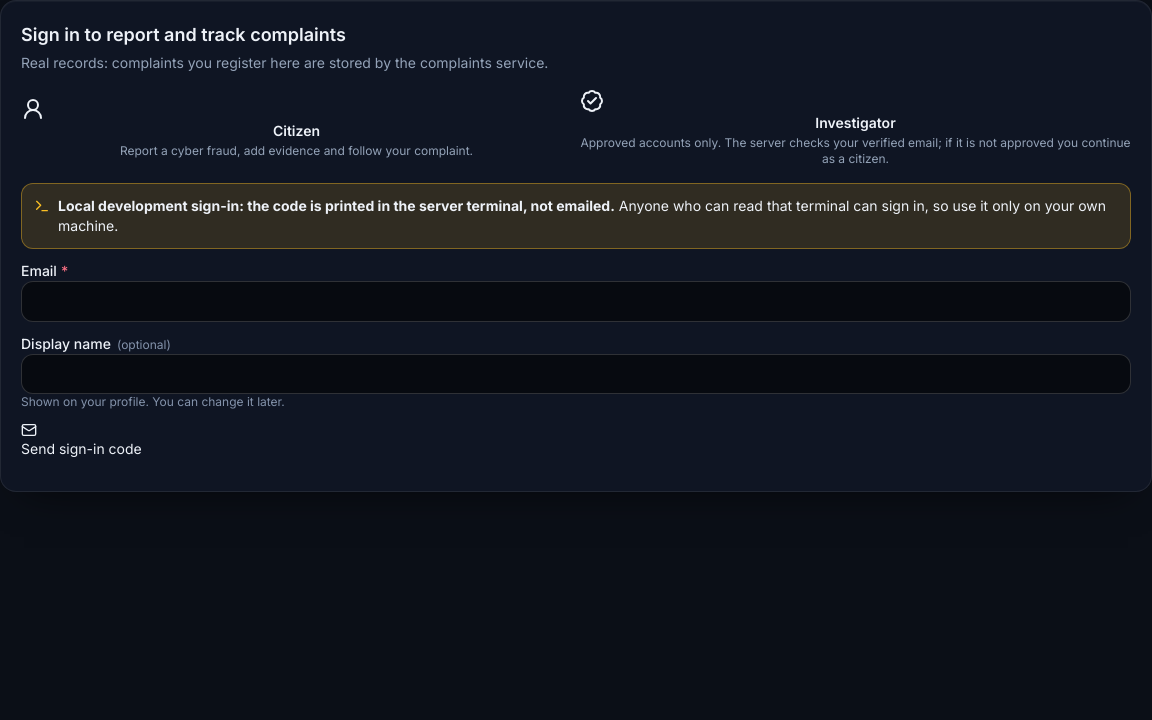
Test: local code flow › validates the email locally before asking for a code
The image size is (1152, 720).
Step 1. Type "not-an-email" into the field with test id "local-email" → (576, 301), box [21,281,1131,322]
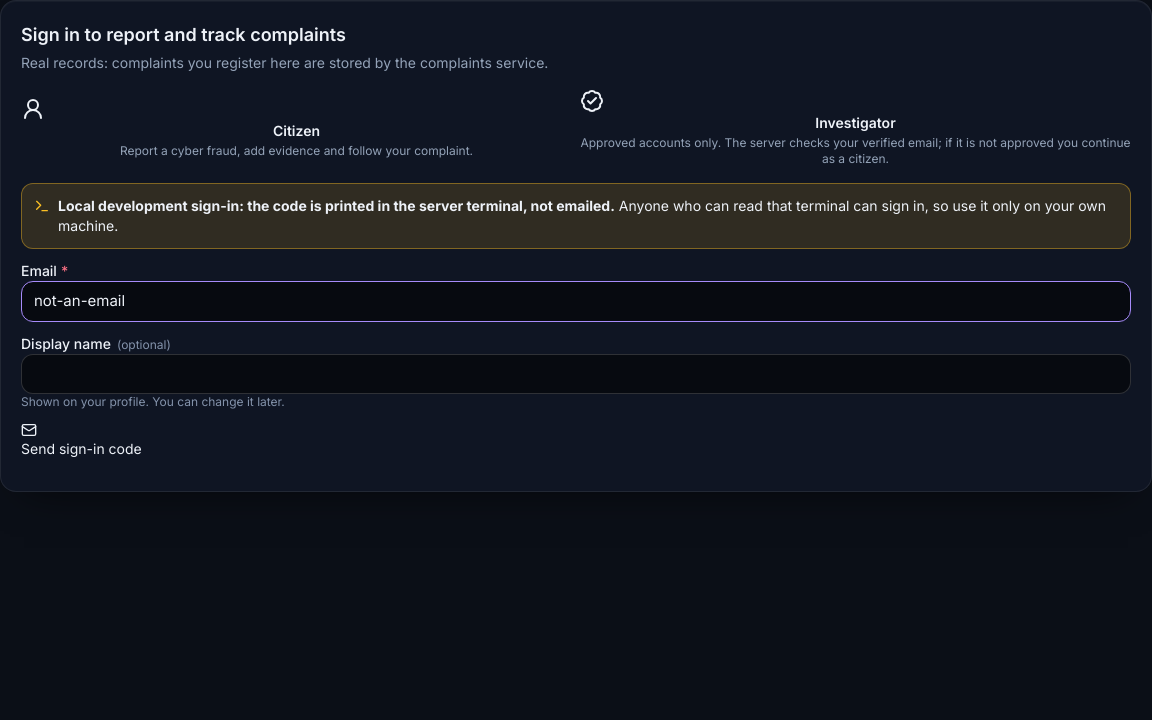
Step 2. Click the button with test id "local-send" → (81, 440), box [21,422,142,459]
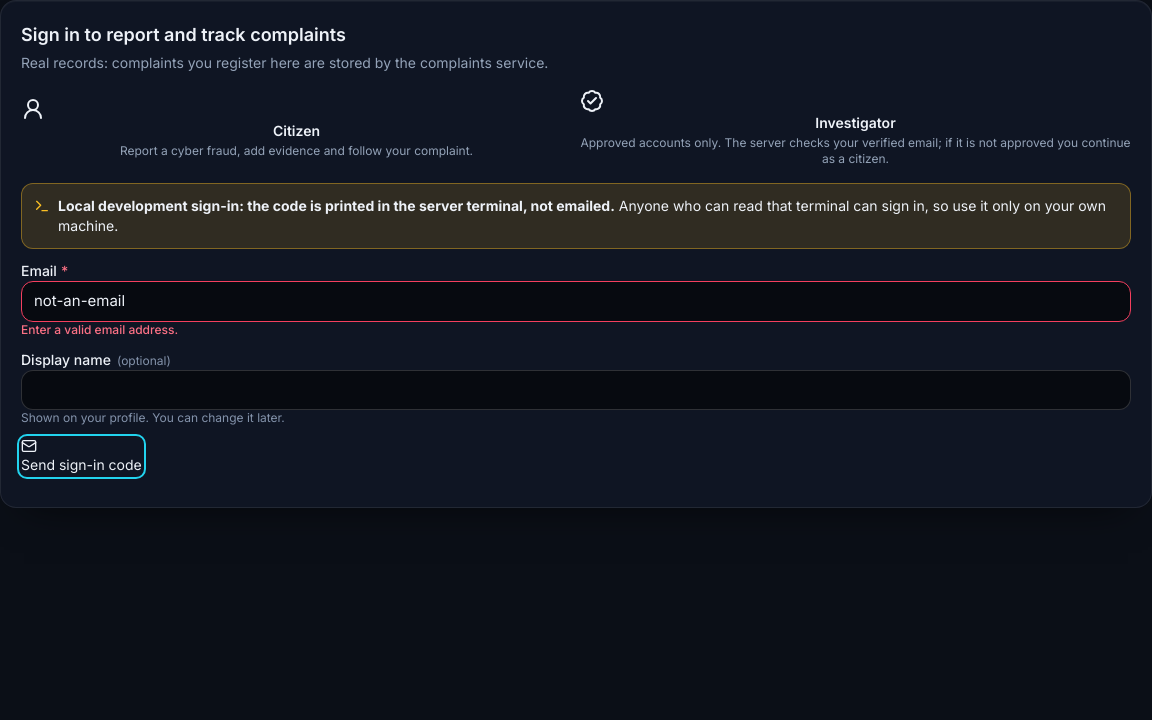
Expected: the text "Enter a valid email address." is shown, [21,322,178,336]
